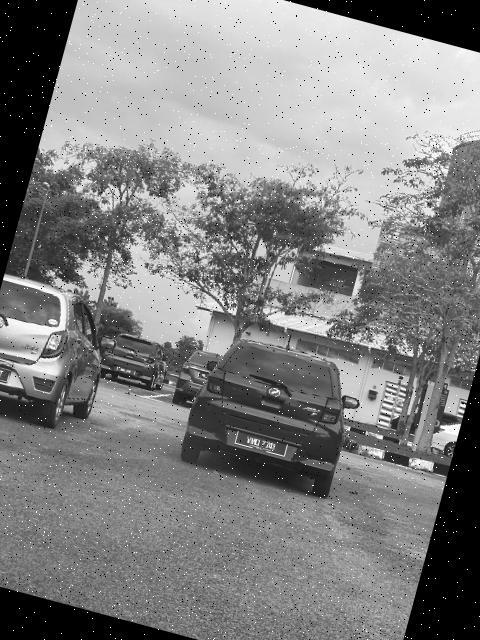License_Plate: (235, 430, 291, 461), (115, 367, 137, 380)
VMD7741: (235, 430, 291, 461)
car: (176, 326, 374, 503), (1, 269, 130, 438)
